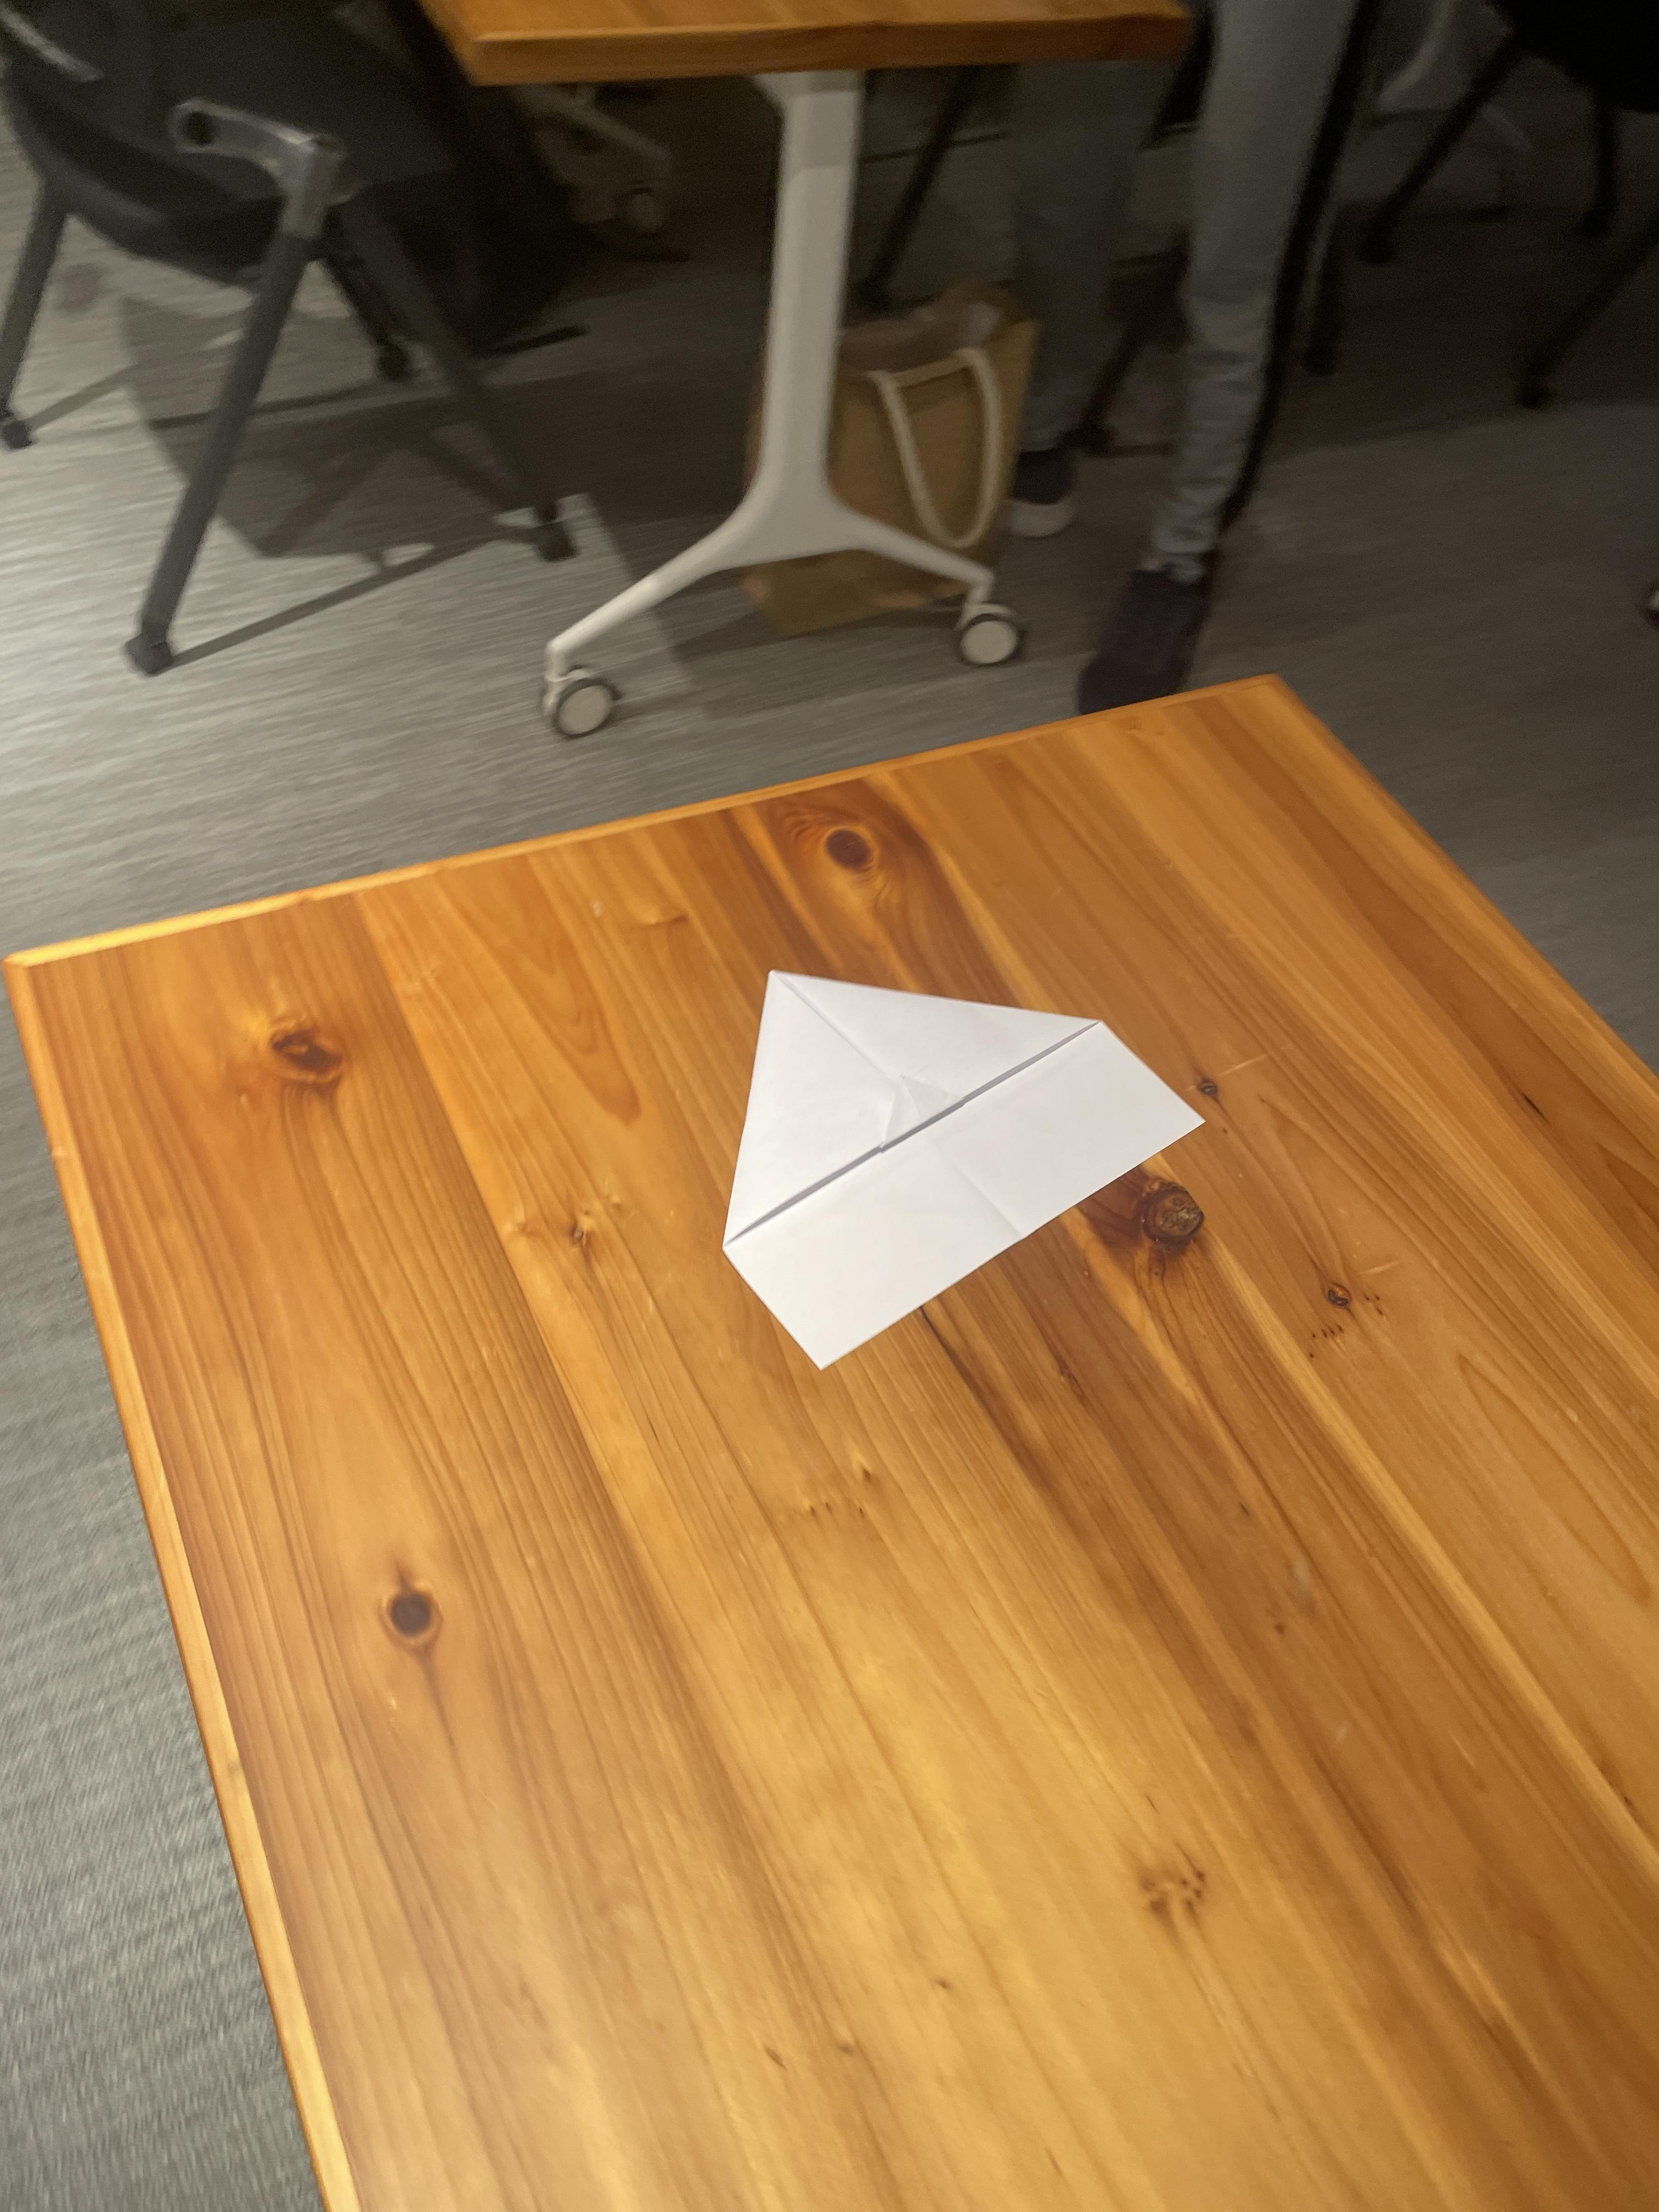shape_2: (664, 906, 1237, 1411)
